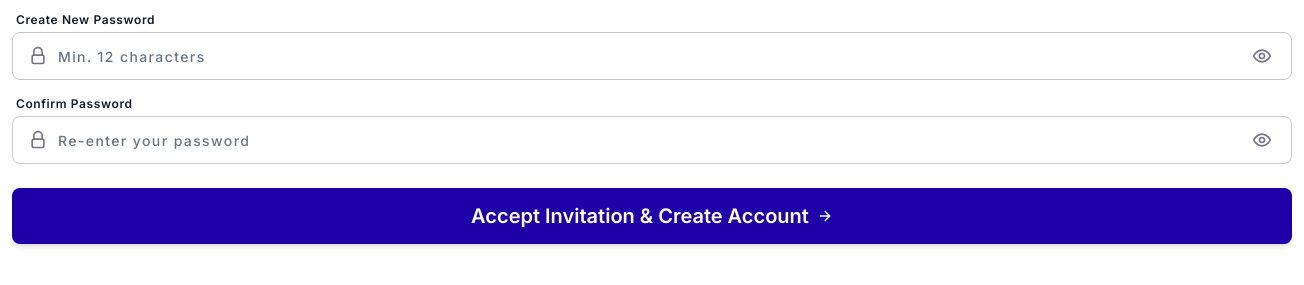
it: AcceptInviteForm › blocks weak password submissions
Type "weak" into the password field labelled "Create New Password". click: (652, 56)
box: [12,32,1292,80]
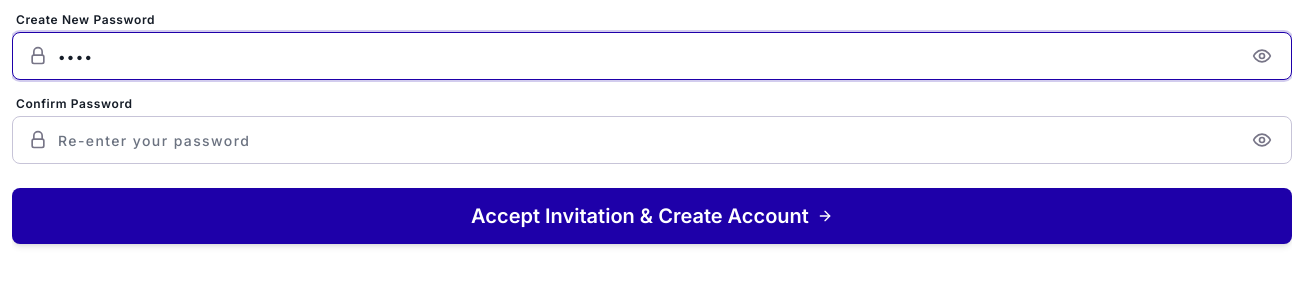
Type "weak" into the password field labelled "Confirm Password". click: (652, 140)
box: [12,116,1292,164]
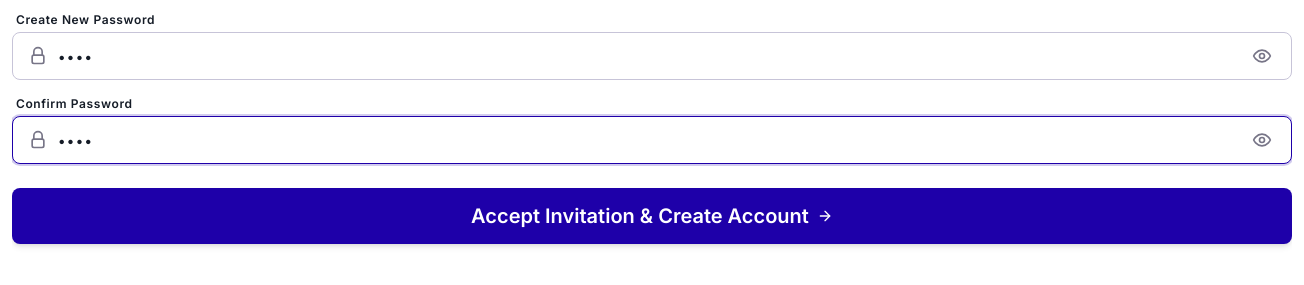
Click the button "Accept Invitation & Create Account". click: (652, 216)
box: [12,188,1292,244]
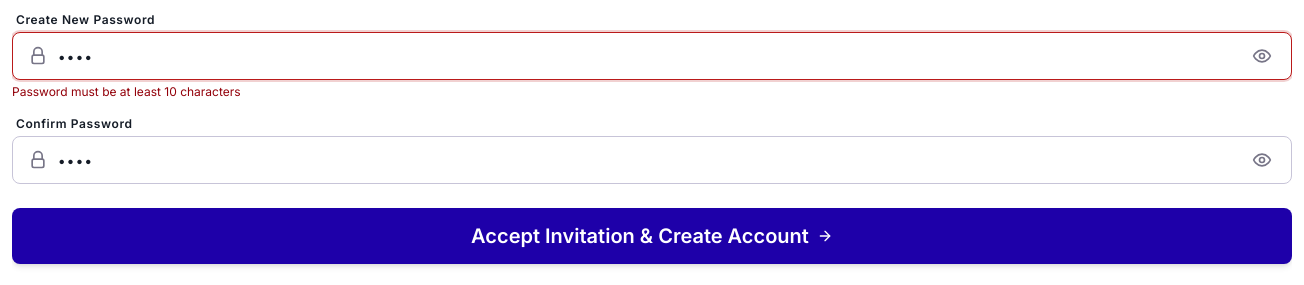
Expected: the text "Password must be at least 10 characters" is shown, [12,84,241,99]
